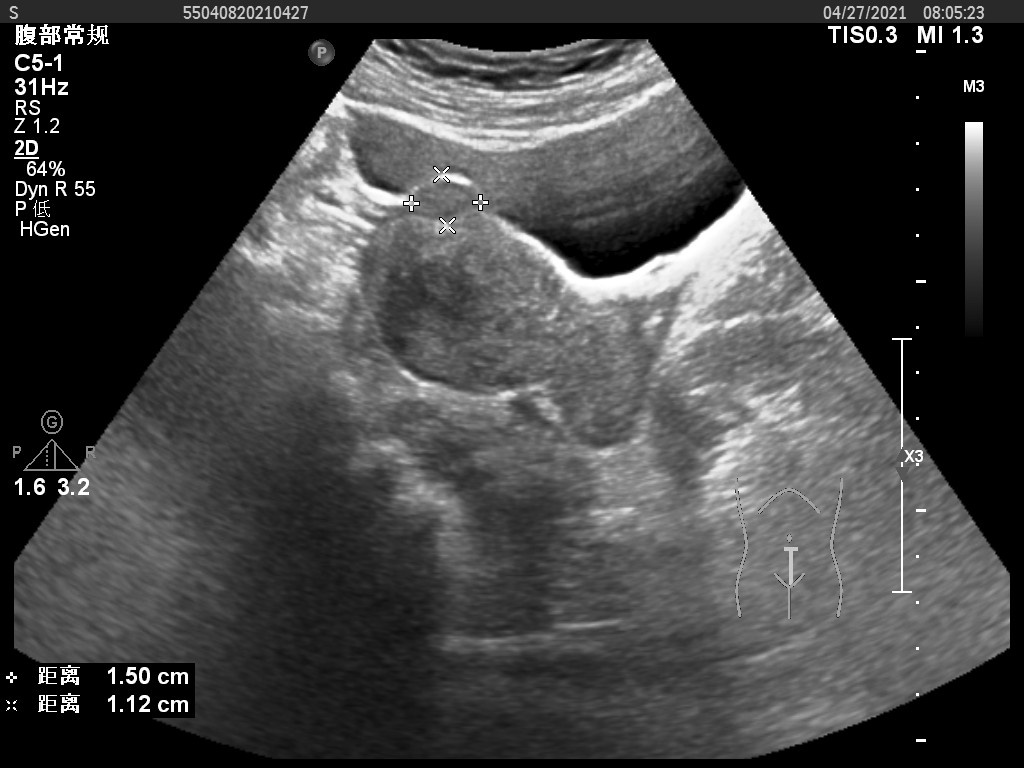肌瘤: (412, 176, 482, 226)
